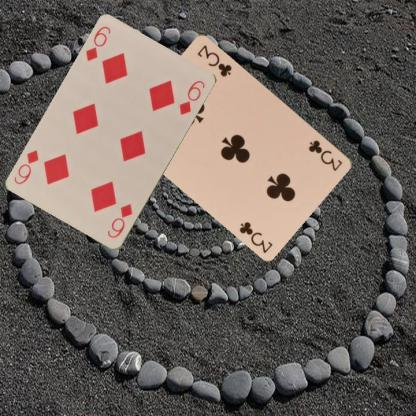3c: (306, 137, 343, 172)
6d: (105, 201, 134, 240), (83, 24, 112, 63)
